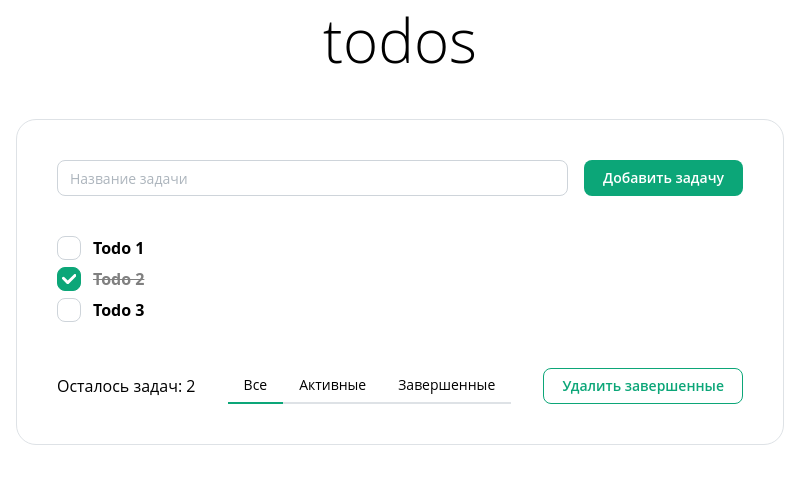
Should display correct number of active todos
Expected: the text "Осталось задач: 2" is shown, [57,374,196,399]
Type "Test todo" into the field with placeholder "Название задачи" at (312, 178), box [57,160,568,196]
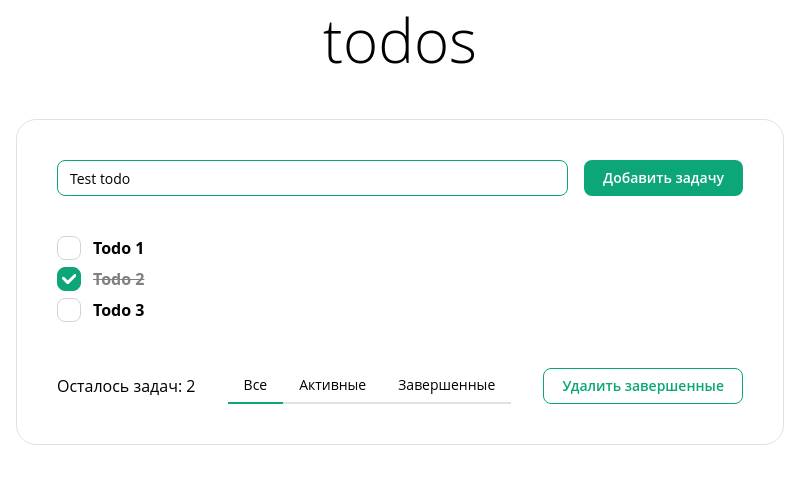
Click the button "Добавить задачу" at (664, 178), box [584,160,743,196]
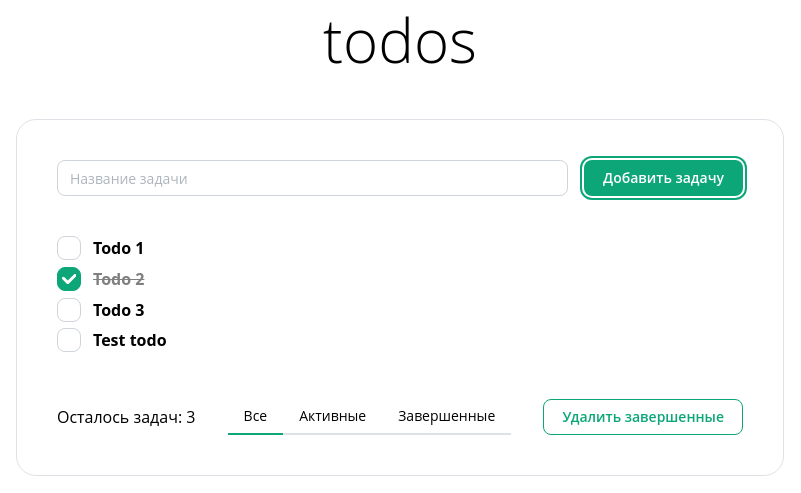
Result: the text "Осталось задач: 3" is shown at [57,405,196,430]
